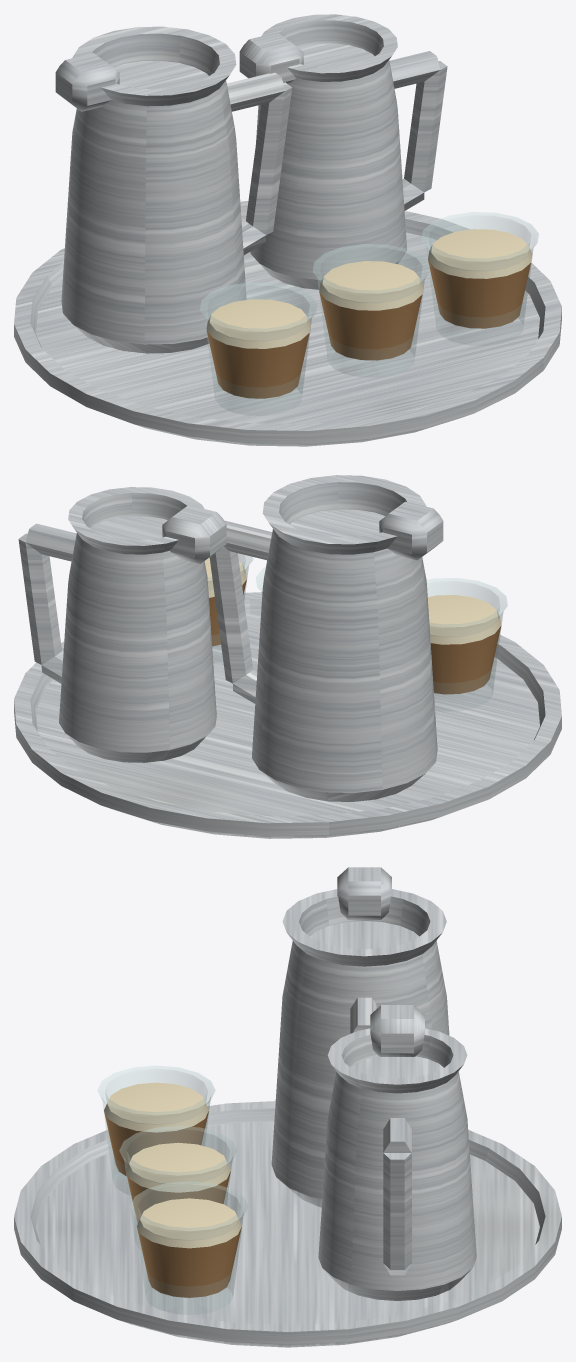
Rendered from teh_tarik.glb.
The picture shows the model from 3 angles, top to bottom: view 1: azimuth 30°, elevation 25°; view 2: azimuth 150°, elevation 25°; view 3: azimuth 270°, elevation 25°; orthographic projection.
Parts seen in each view (by area): view 1: teh_tarik__steel_brushed, teh_tarik__glass, teh_tarik__tea, teh_tarik__paint_cream; view 2: teh_tarik__steel_brushed, teh_tarik__glass, teh_tarik__tea, teh_tarik__paint_cream; view 3: teh_tarik__steel_brushed, teh_tarik__glass, teh_tarik__paint_cream, teh_tarik__tea.
Part boxes in pixels (<box>): teh_tarik__steel_brushed: <box>14,14,561,446</box>; teh_tarik__glass: <box>200,212,538,415</box>; teh_tarik__tea: <box>206,260,530,398</box>; teh_tarik__paint_cream: <box>206,229,532,348</box>; teh_tarik__steel_brushed: <box>14,475,561,838</box>; teh_tarik__glass: <box>208,553,507,710</box>; teh_tarik__tea: <box>209,580,501,694</box>; teh_tarik__paint_cream: <box>204,557,501,644</box>; teh_tarik__steel_brushed: <box>14,867,561,1347</box>; teh_tarik__glass: <box>97,1065,247,1314</box>; teh_tarik__paint_cream: <box>104,1082,241,1248</box>; teh_tarik__tea: <box>104,1111,241,1297</box>.
Bounding box in the file's own units: 0.5 × 0.29 × 0.5.
4 materials, 1 textured.
